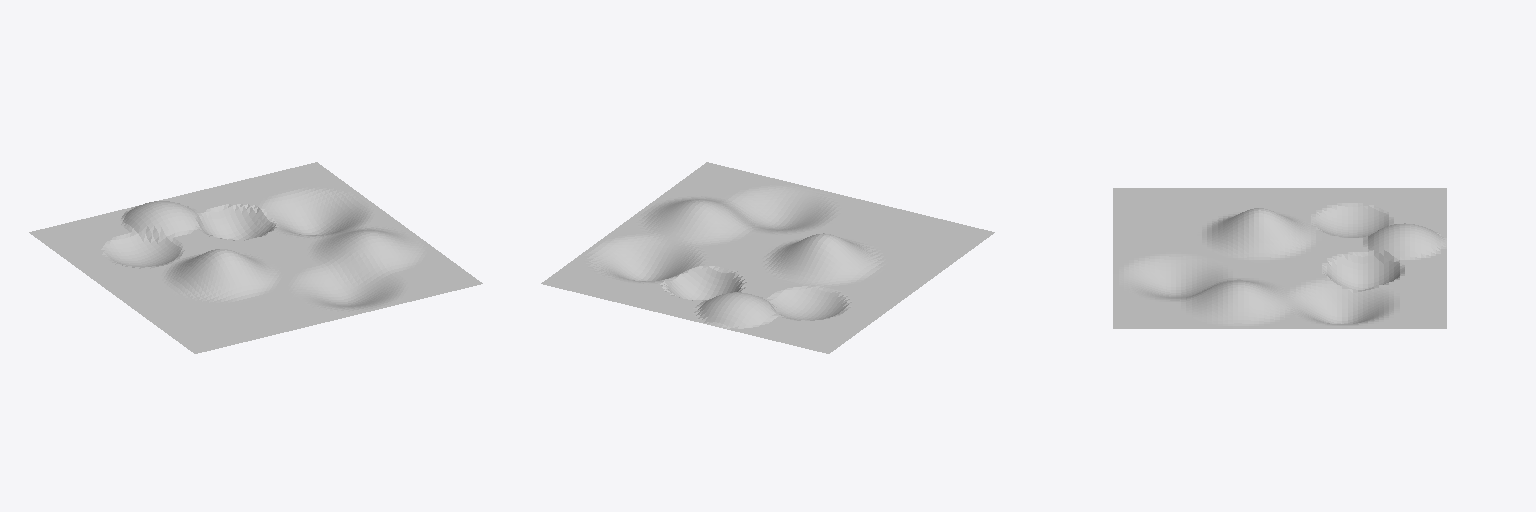
The model's file is smoothmoutain.obj.
3 views of the same model, side by side, from view 1: azimuth 30°, elevation 25°; view 2: azimuth 150°, elevation 25°; view 3: azimuth 270°, elevation 25° (orthographic).
Visible parts, largest first — view 1: Plane; view 2: Plane; view 3: Plane.
Boxes of the visible parts, x1,y1,x2,y2 form: Plane: [29, 162, 482, 353]; Plane: [541, 162, 994, 353]; Plane: [1113, 188, 1446, 328].
Bounding box in the file's own units: 15.06 × 2.36 × 15.06.